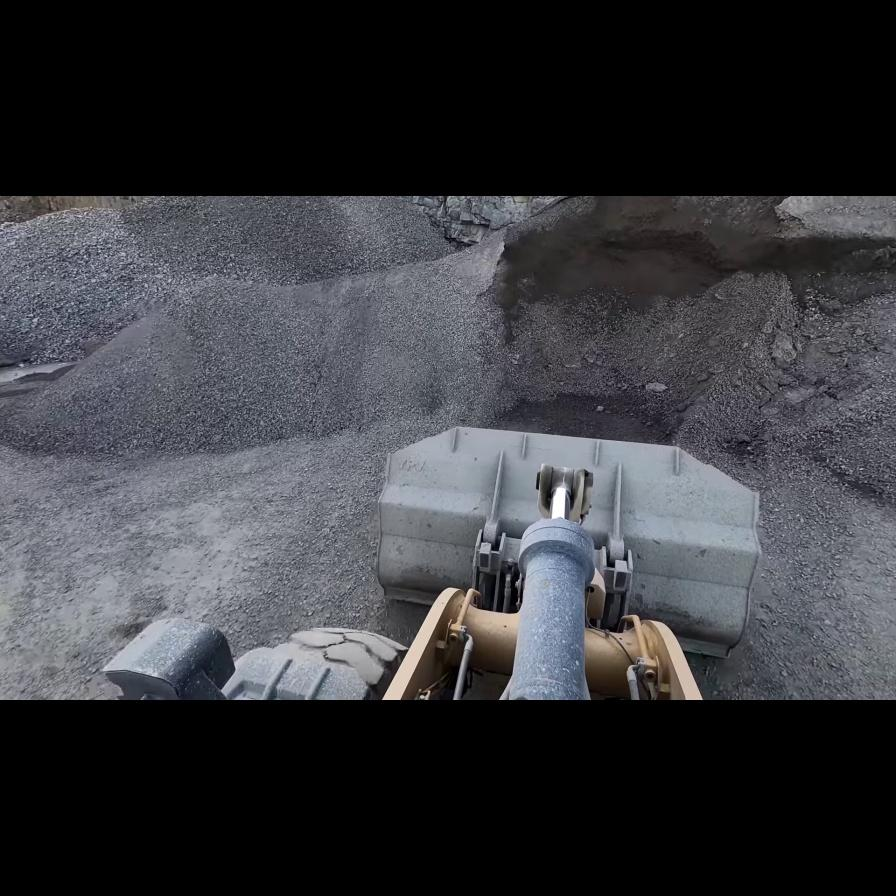anchor: (535, 463, 593, 524)
pile of gravel: (0, 202, 894, 444)
